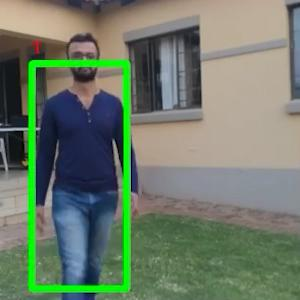follow: (31, 34, 138, 299)
